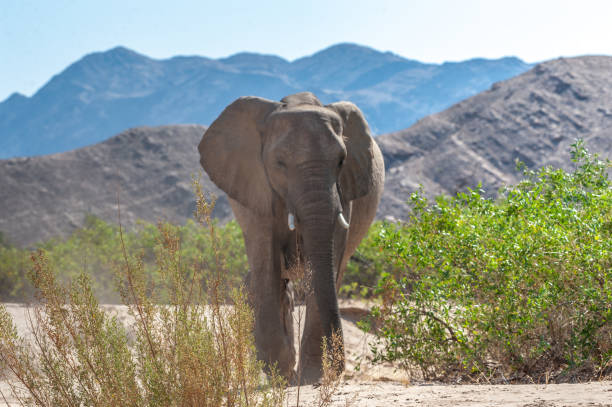africanelephant: (251, 98, 362, 256)
